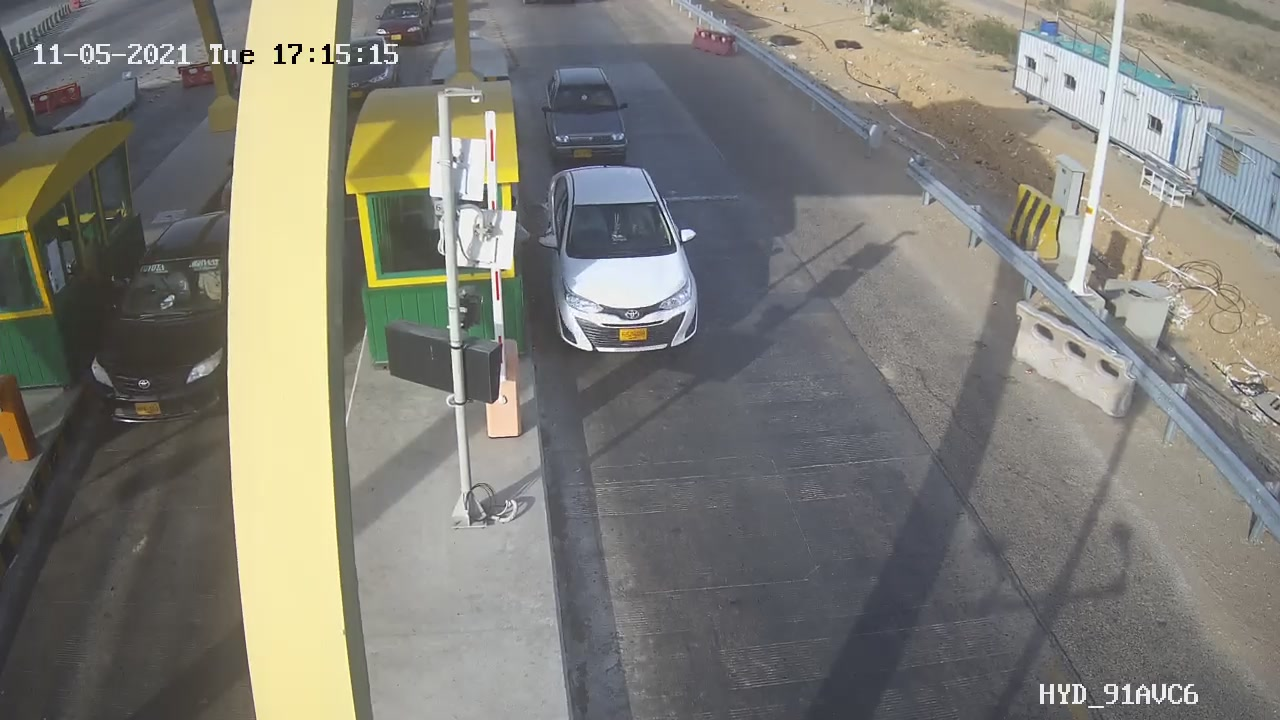F1: (517, 148, 727, 372), (525, 51, 651, 181)
